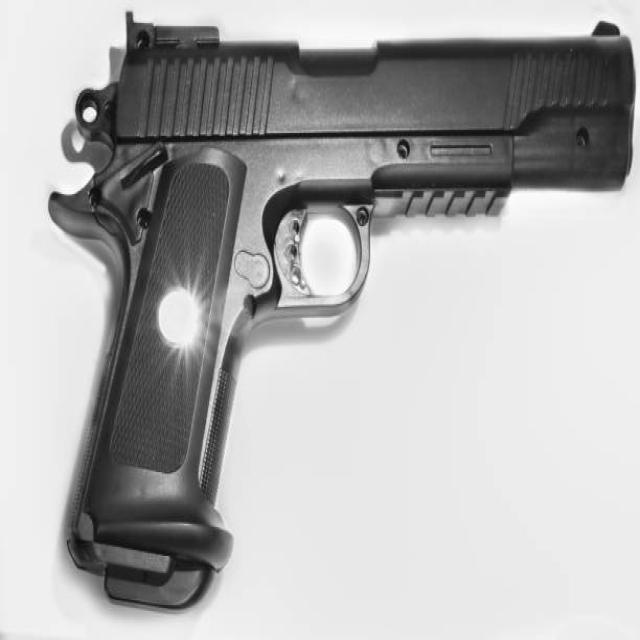pistol: (36, 9, 640, 613)
